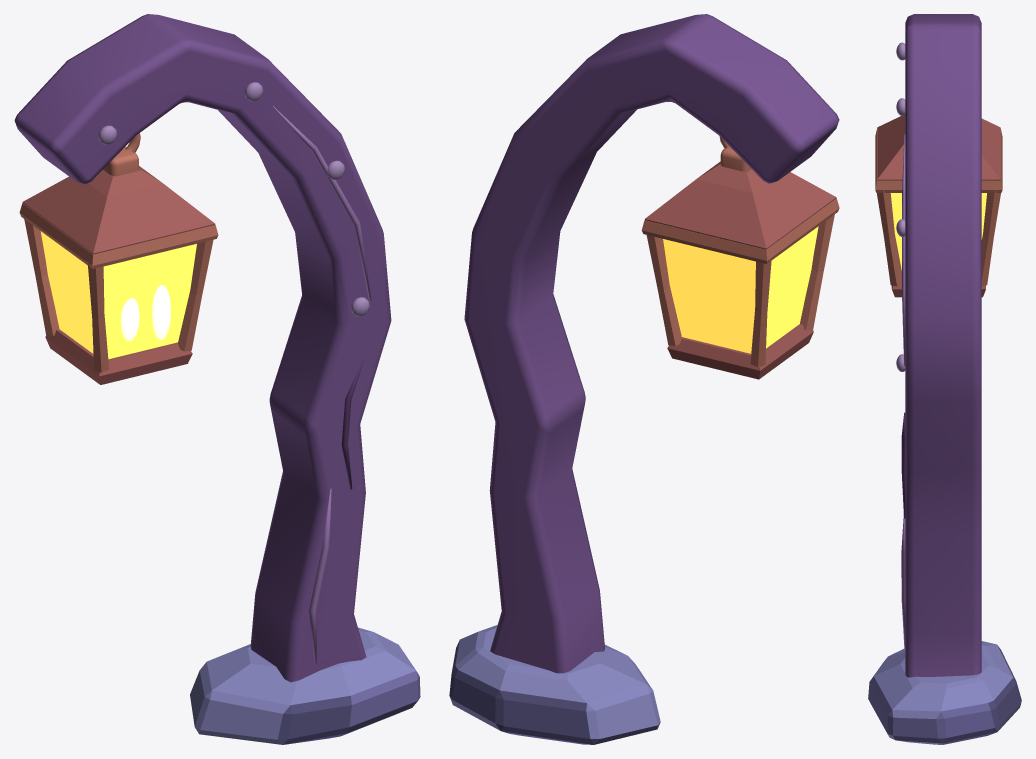
File: crooked_lantern_post.glb
3 renders of one model, left to right at view 1: azimuth 30°, elevation 25°; view 2: azimuth 150°, elevation 25°; view 3: azimuth 270°, elevation 25°, orthographic. The views are drawn at different scales.
Parts seen in each view (by area): view 1: Crooked_Hewn_Purple_Post, Lantern_Foundation, Lantern_Glass_Core, Lantern_Pitched_Roof, Lantern_Base_Foot, Lantern_Roof_Rim, Lantern_Corner_Frame_3, Lantern_Corner_Frame_1, Lantern_Corner_Frame_2, Curved_Post_Highlight, Post_Wood_Grain, Lantern_Glass_Flame_Glow_1 (+2 smaller); view 2: Crooked_Hewn_Purple_Post, Lantern_Foundation, Lantern_Glass_Core, Lantern_Pitched_Roof, Lantern_Base_Foot, Lantern_Roof_Rim, Lantern_Corner_Frame_0, Lantern_Corner_Frame_2, Lantern_Corner_Frame_1; view 3: Crooked_Hewn_Purple_Post, Lantern_Foundation, Lantern_Pitched_Roof, Lantern_Corner_Frame_3, Lantern_Corner_Frame_0, Lantern_Roof_Rim, Curved_Post_Highlight, Lantern_Glass_Core, Post_Wood_Grain, Post_Wood_Crack.
Part boxes in pixels (x1,y1,x2,y2): Crooked_Hewn_Purple_Post: (14, 14, 391, 682); Lantern_Foundation: (190, 627, 420, 744); Lantern_Glass_Core: (40, 231, 196, 359); Lantern_Pitched_Roof: (22, 166, 215, 254); Lantern_Base_Foot: (45, 329, 192, 384); Lantern_Roof_Rim: (19, 203, 218, 268); Lantern_Corner_Frame_3: (178, 239, 213, 351); Lantern_Corner_Frame_1: (23, 215, 59, 335); Lantern_Corner_Frame_2: (87, 262, 108, 372); Curved_Post_Highlight: (272, 106, 371, 300); Post_Wood_Grain: (309, 488, 331, 663); Lantern_Glass_Flame_Glow_1: (152, 285, 170, 340); Crooked_Hewn_Purple_Post: (464, 14, 839, 673); Lantern_Foundation: (449, 625, 660, 744); Lantern_Glass_Core: (663, 226, 818, 353); Lantern_Pitched_Roof: (645, 161, 836, 249); Lantern_Base_Foot: (667, 324, 813, 379); Lantern_Roof_Rim: (641, 198, 839, 263); Lantern_Corner_Frame_0: (646, 235, 681, 345); Lantern_Corner_Frame_2: (800, 210, 835, 330); Lantern_Corner_Frame_1: (750, 257, 771, 366); Crooked_Hewn_Purple_Post: (905, 14, 981, 677); Lantern_Foundation: (868, 641, 1021, 744); Lantern_Pitched_Roof: (877, 115, 1000, 180); Lantern_Corner_Frame_3: (877, 189, 901, 286); Lantern_Corner_Frame_0: (981, 189, 1000, 285); Lantern_Roof_Rim: (875, 128, 1002, 192); Curved_Post_Highlight: (902, 134, 905, 365); Lantern_Glass_Core: (890, 193, 986, 270); Post_Wood_Grain: (901, 516, 905, 648); Post_Wood_Crack: (901, 412, 905, 518).
Size of the model in its own units: 1.49 by 2.78 by 0.615.
